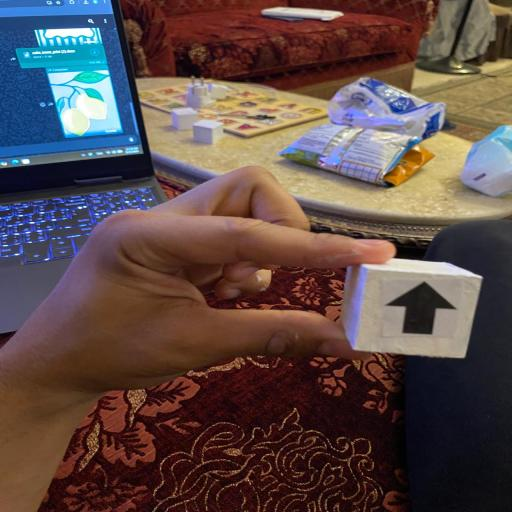Up: (342, 259, 484, 358)
